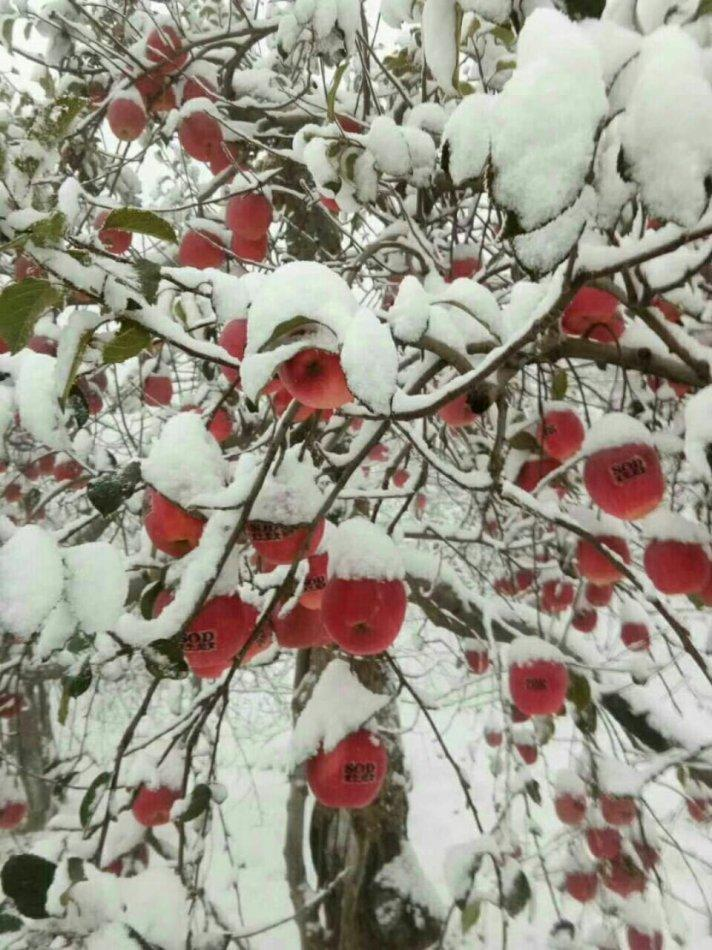apple: (304, 730, 391, 810), (172, 596, 259, 676), (322, 575, 409, 655), (583, 439, 667, 520), (279, 347, 358, 407), (640, 535, 712, 595), (507, 657, 571, 722), (144, 493, 210, 556), (565, 284, 622, 331), (225, 191, 273, 237), (105, 97, 146, 140)
